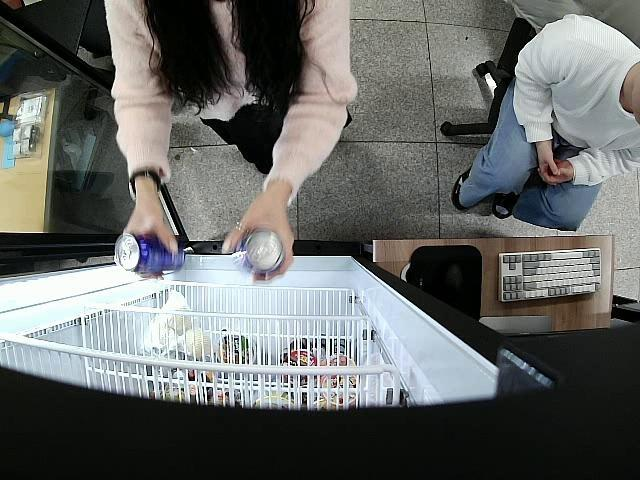14_welchsGrape: (114, 233, 186, 280), (232, 228, 286, 279)
